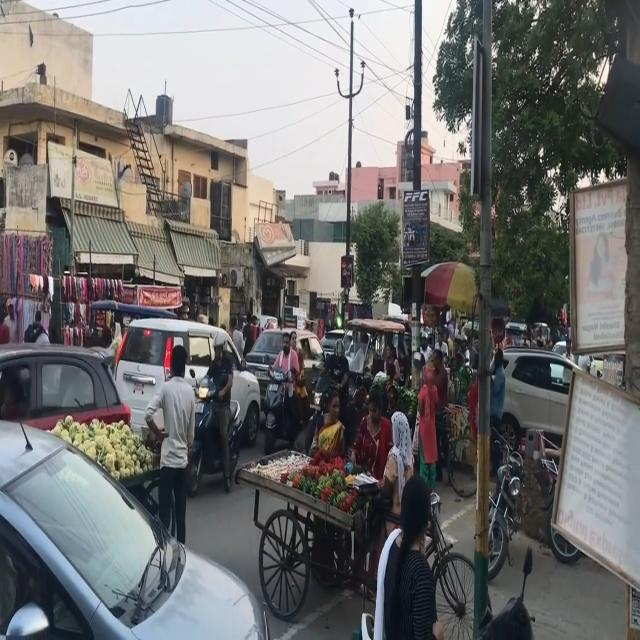Scooty: (192, 365, 240, 475), (264, 353, 287, 443)
